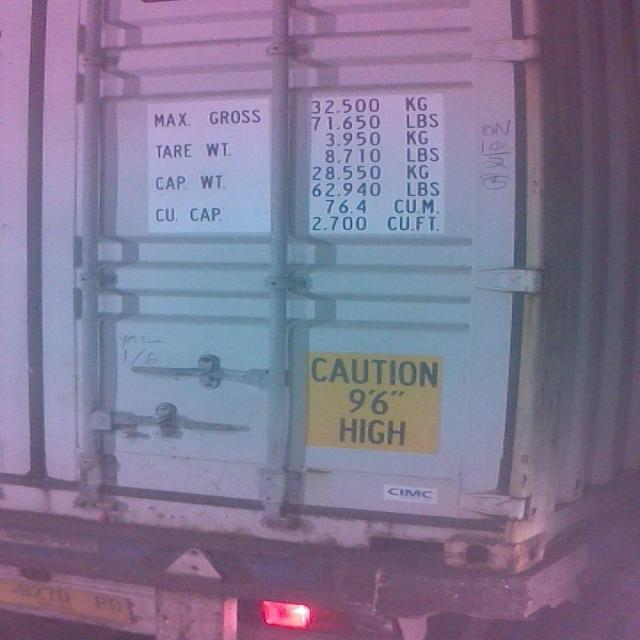seal: (90, 491, 120, 524)
